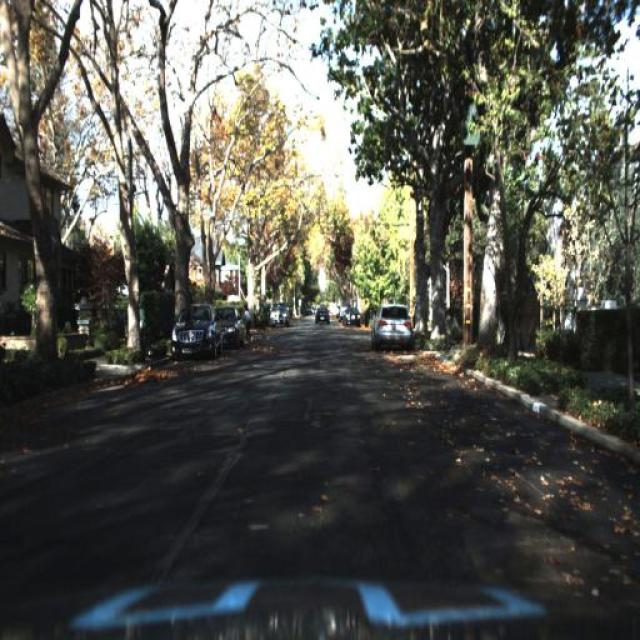car: (167, 297, 224, 368), (368, 300, 417, 356), (222, 297, 249, 355), (210, 304, 245, 348), (266, 301, 290, 329), (341, 306, 361, 330), (308, 305, 331, 325), (343, 306, 362, 329)
trafficLight: (242, 307, 254, 347), (242, 295, 249, 337)
